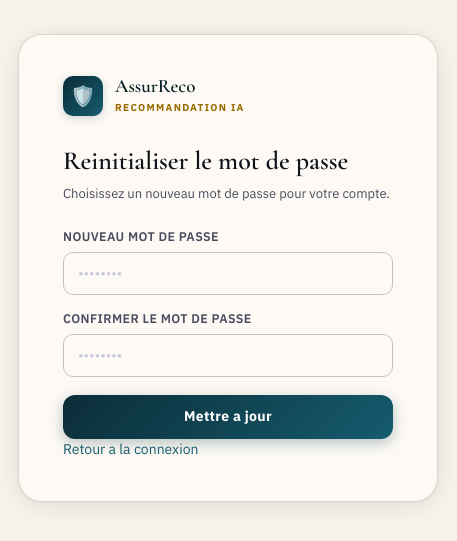
Test case: ResetPassword › shows error when password is too short
Type "short" into the password field with placeholder "••••••••" at (228, 273), box left=63, top=252, right=393, bottom=294
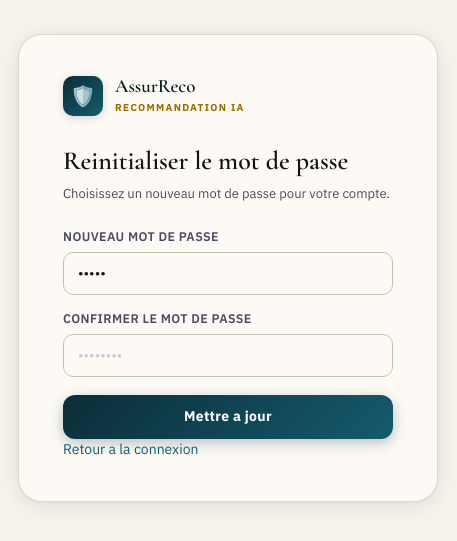
Type "short" into the password field with placeholder "••••••••" at (228, 355), box left=63, top=334, right=393, bottom=376
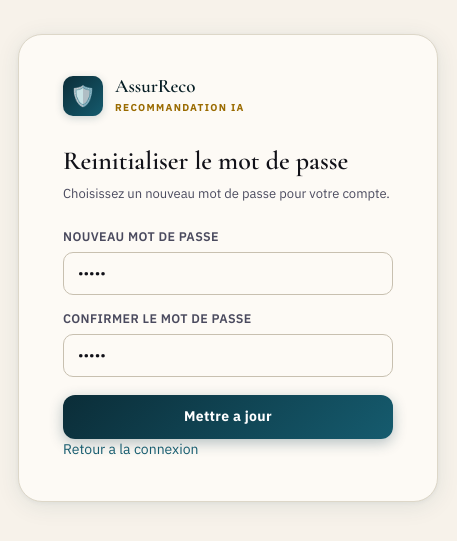
Click the button "Mettre a jour" at (228, 416), box left=63, top=394, right=393, bottom=438
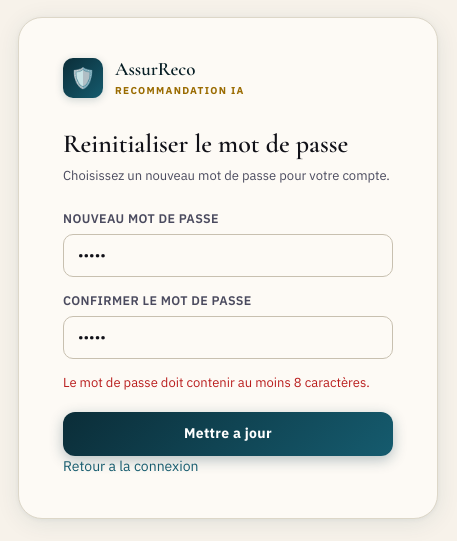
Result: the text "Le mot de passe doit contenir au moins 8 caractères." is shown at left=63, top=373, right=393, bottom=394
